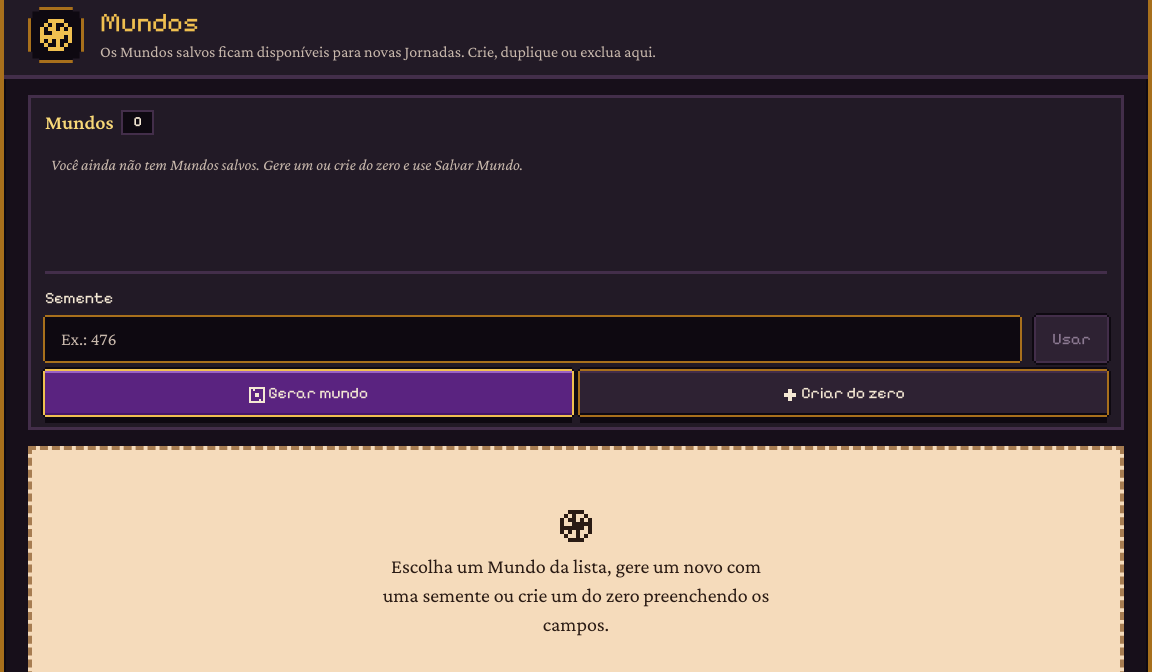
Test: Tela de Mundos (modelo provisório) › Criar do zero: Salvar mostra os erros e não grava; Mundo editado vira personalizado
Click the button "Criar do zero".
click(844, 393)  # box [580,371,1107,415]
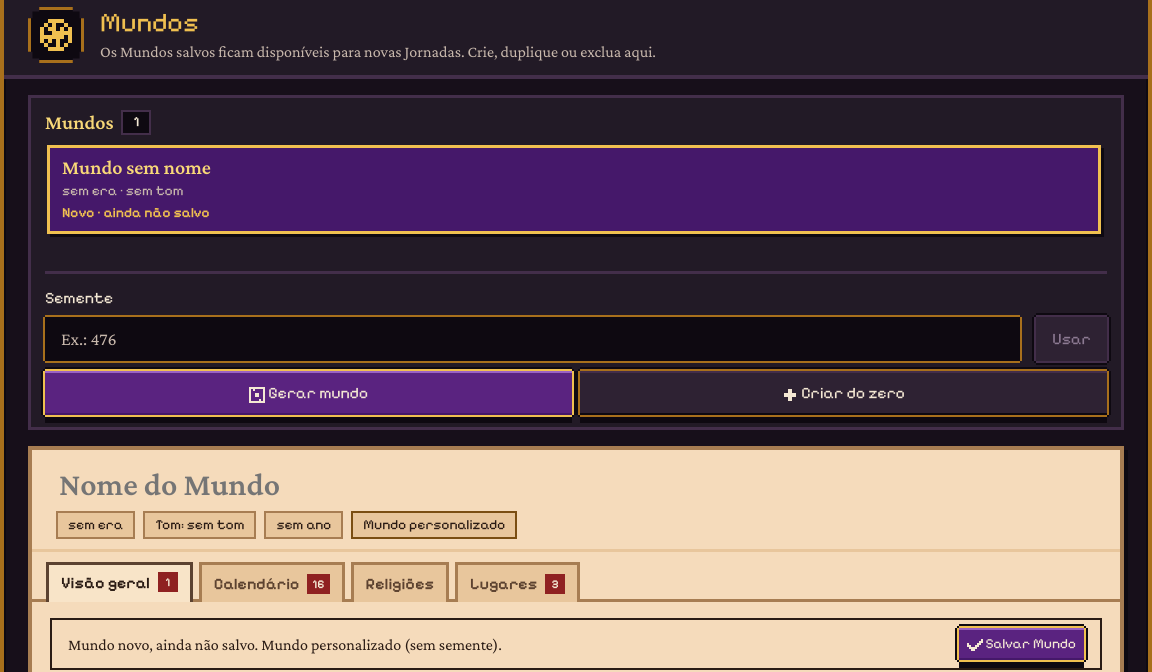
Expected: the text "Mundo personalizado (sem semente)." is shown, [261,636,502,653]
Click the button "Salvar Mundo".
click(1021, 644)  # box [959,628,1084,660]
(page scrolled)
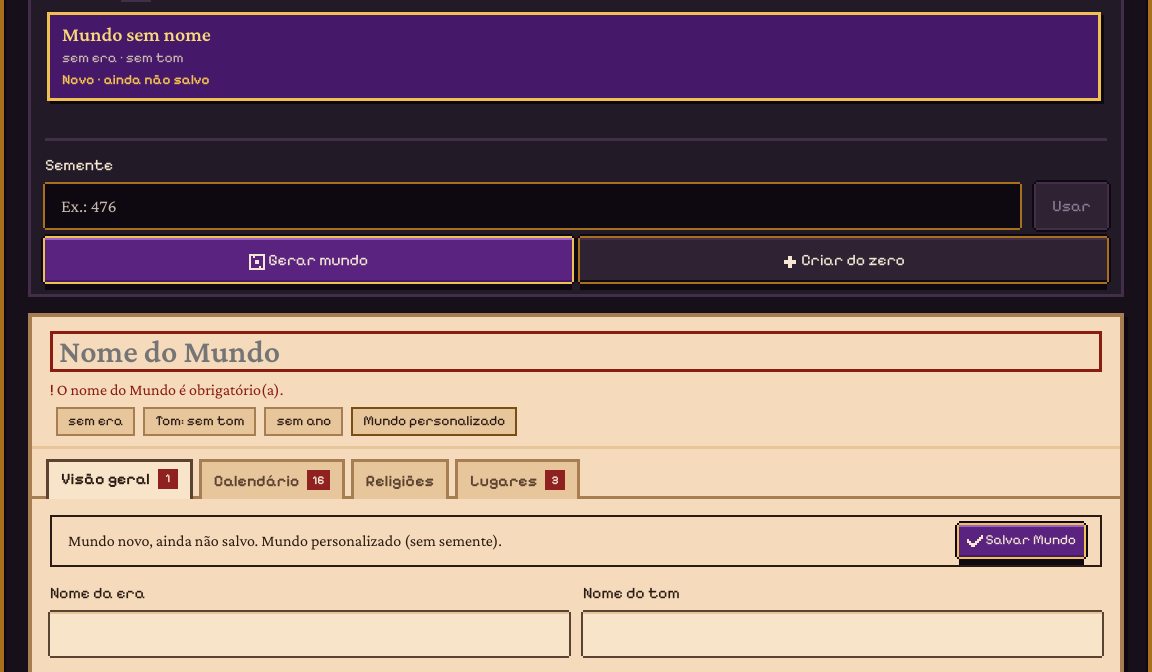
Expected: the text "O nome do Mundo é obrigatório(a)." is shown, [57,381,283,398]
